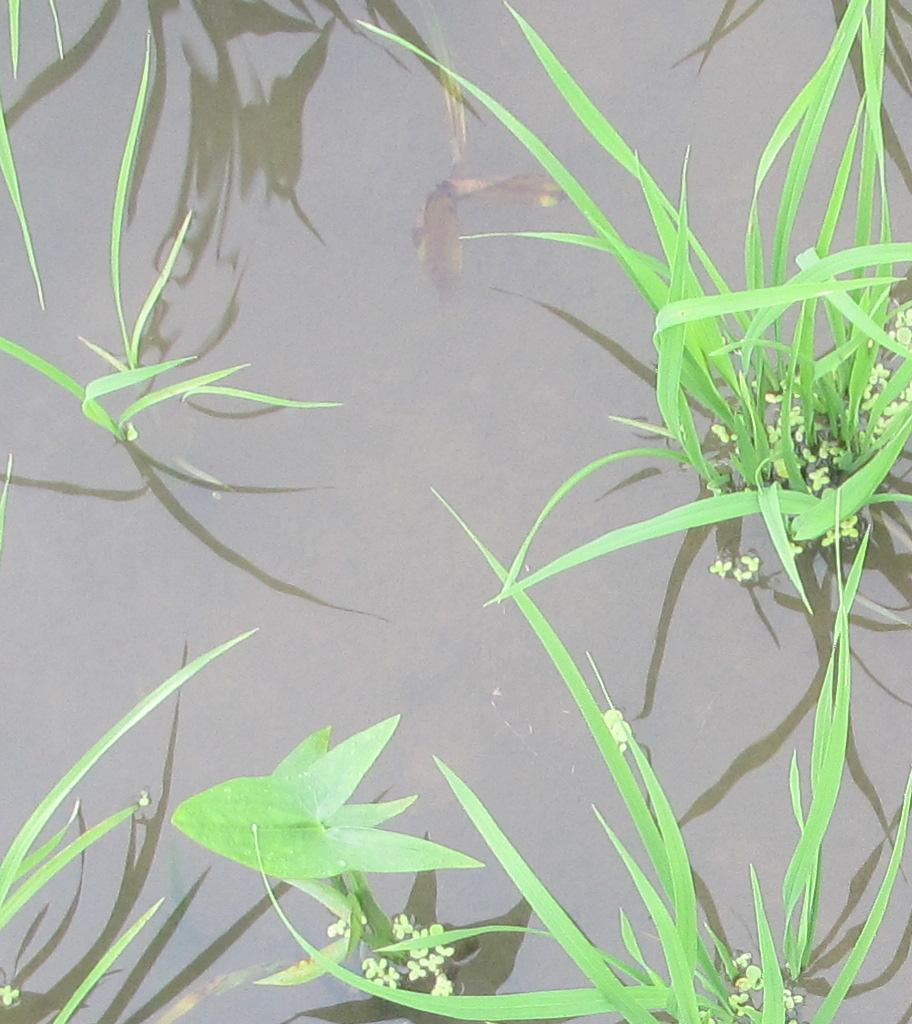Weed: (182, 710, 496, 919)
